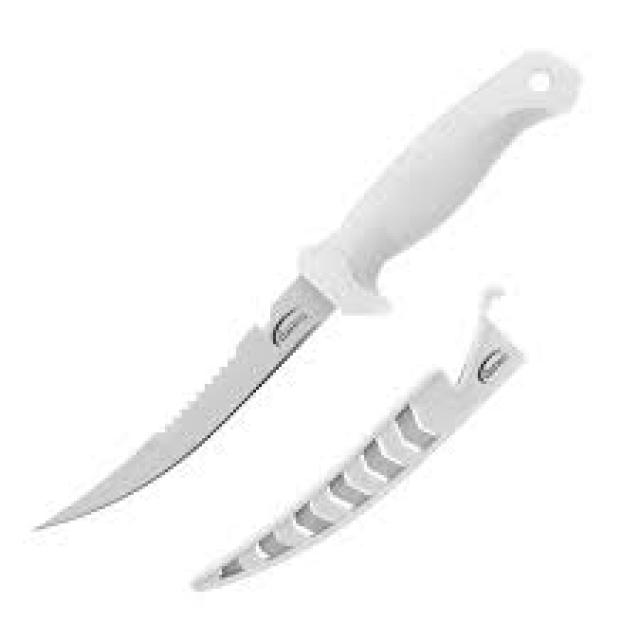knives: (28, 42, 586, 538), (185, 276, 532, 597)
